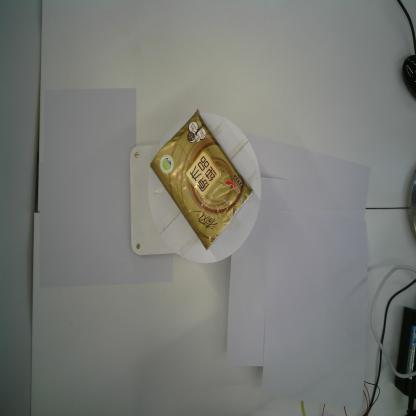Tissue: (150, 108, 254, 250)
